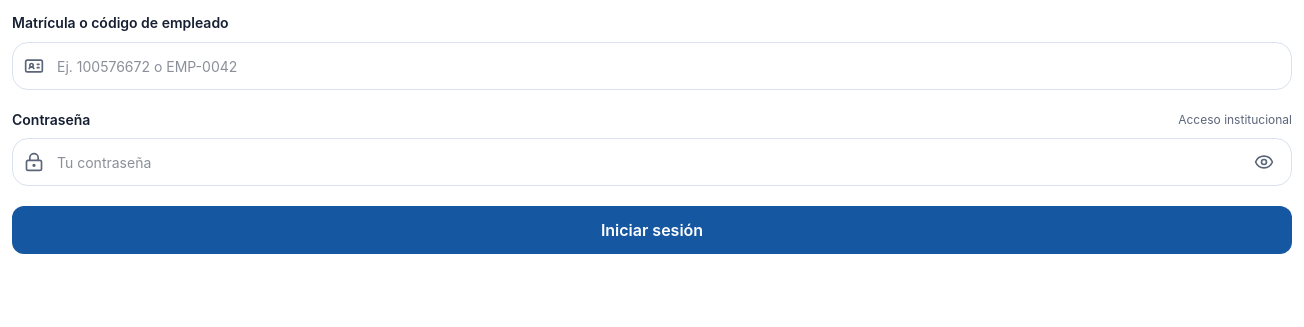
Test case: LoginForm › keeps credentials out of the URL and validates empty fields
Click the button "Iniciar sesión". click: (652, 230)
box: [12, 206, 1292, 254]
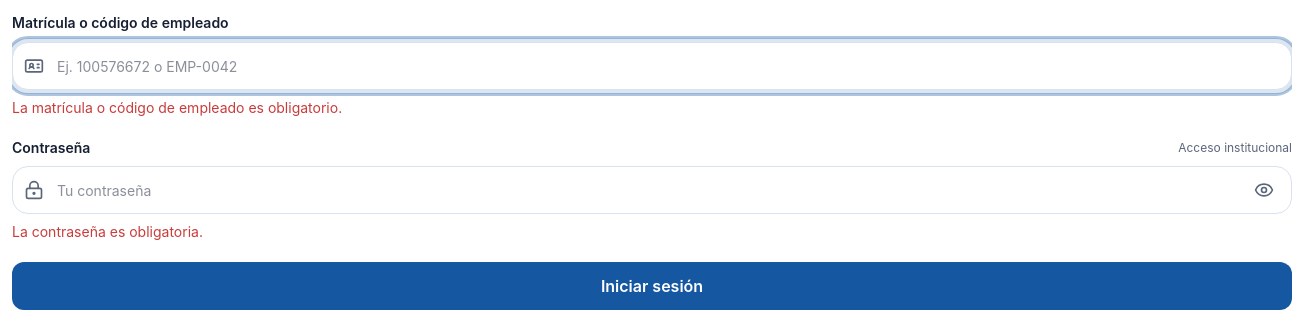
Check: the text "La matrícula o código de empleado es obligatorio." is shown, box [12, 99, 342, 116]
Check: the text "La contraseña es obligatoria." is shown, box [12, 223, 203, 240]
